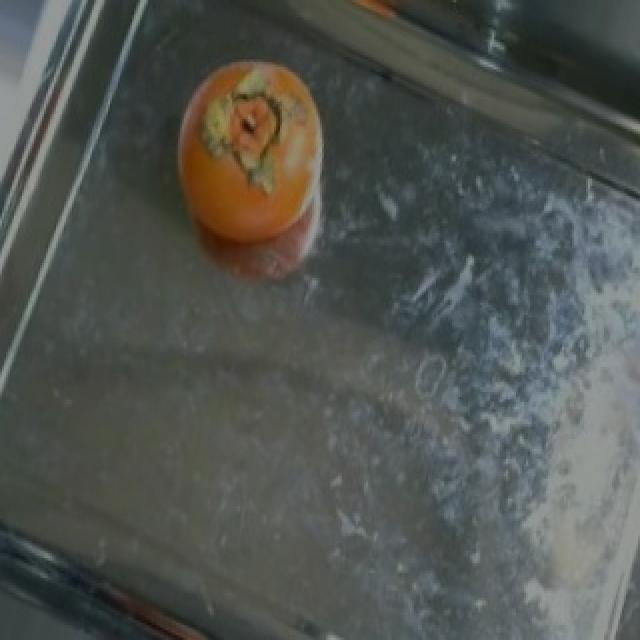Fruit: (148, 40, 348, 312)
